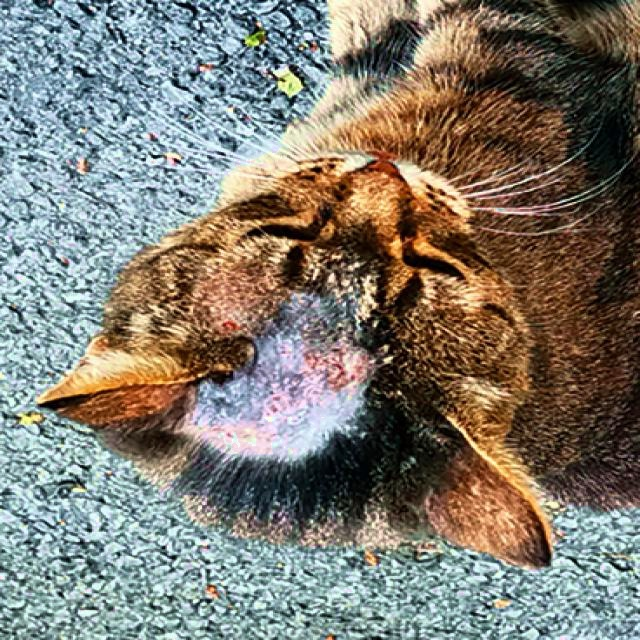ringworm: (179, 267, 369, 466)
